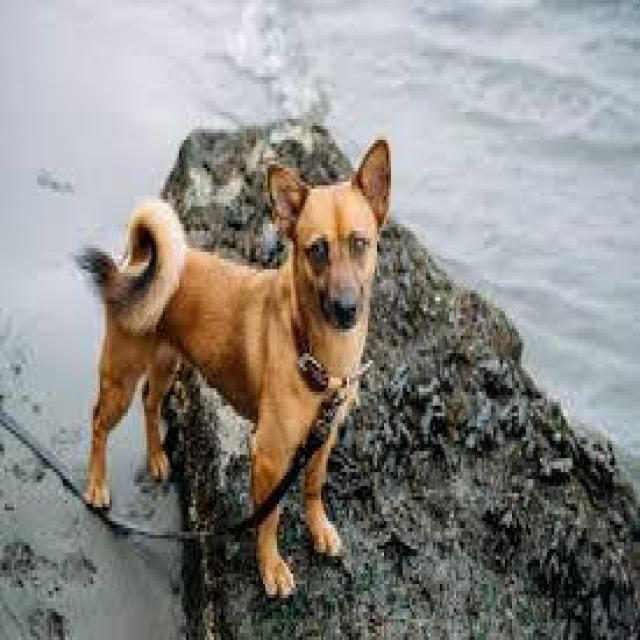Dog: (261, 133, 401, 337)
